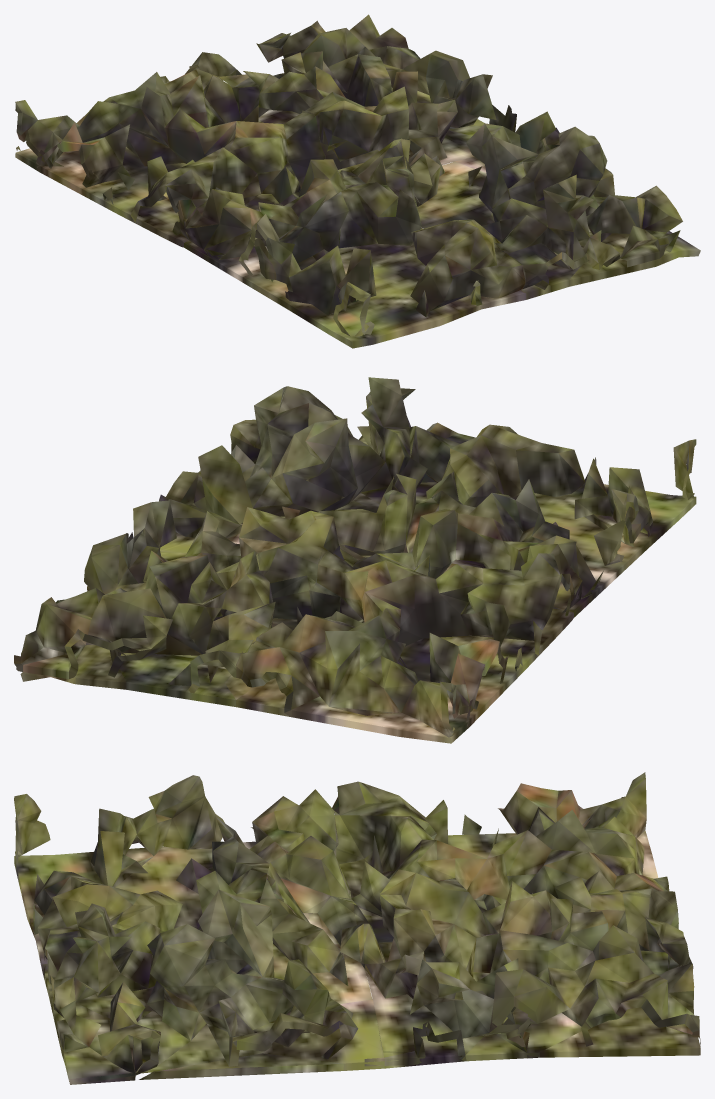
The picture shows the model from 3 angles, top to bottom: view 1: azimuth 30°, elevation 25°; view 2: azimuth 150°, elevation 25°; view 3: azimuth 270°, elevation 25°; orthographic projection. The views are drawn at different scales.
Visible parts, largest first — view 1: Mesh_0; view 2: Mesh_0; view 3: Mesh_0.
Part boxes in pixels (x1,y1,x2,y2): Mesh_0: (15, 14, 700, 348); Mesh_0: (14, 377, 696, 743); Mesh_0: (14, 772, 700, 1084).
Bounding box in the file's own units: 134 × 32.4 × 165.
1 material, 1 textured.
